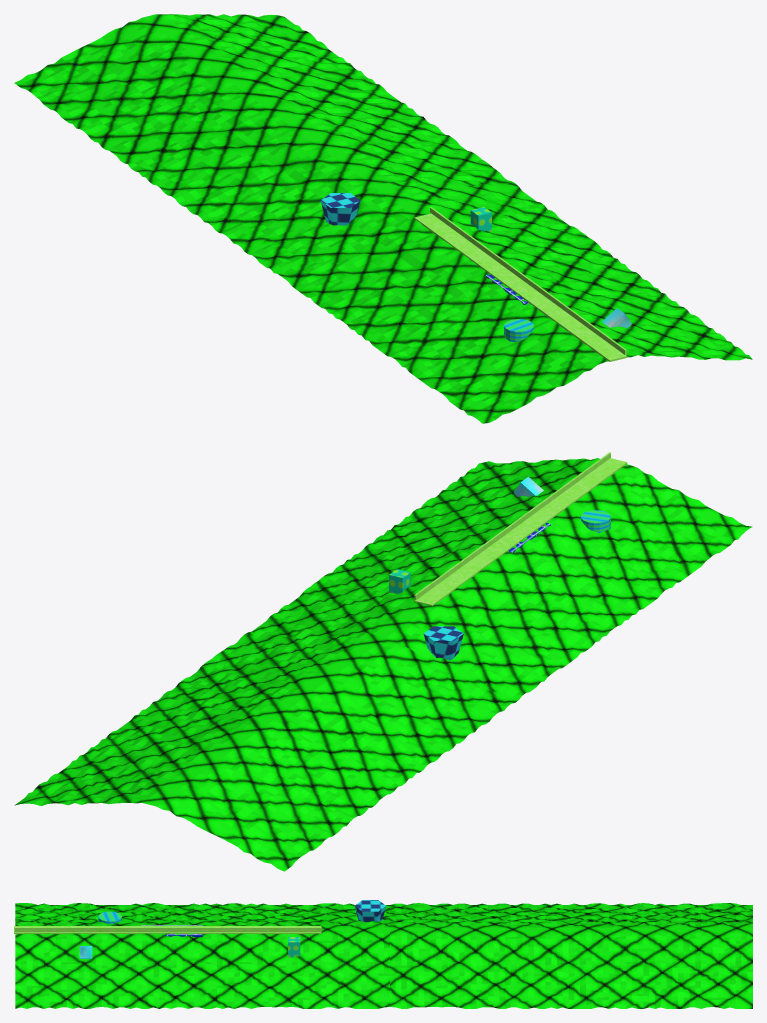
The model's file is corridor.obj.
3 renders of one model, top to bottom at view 1: azimuth 30°, elevation 25°; view 2: azimuth 150°, elevation 25°; view 3: azimuth 270°, elevation 25°, orthographic. The views are drawn at different scales.
Parts seen in each view (by area): view 1: world; view 2: world; view 3: world.
Boxes of the visible parts, x1=… form: world: x1=14, y1=14, x2=752, y2=423; world: x1=14, y1=452, x2=752, y2=871; world: x1=14, y1=900, x2=752, y2=1008.
Bounding box in the file's own units: 160 × 32.81 × 481.
Materials: 1 (1 with a texture image).
